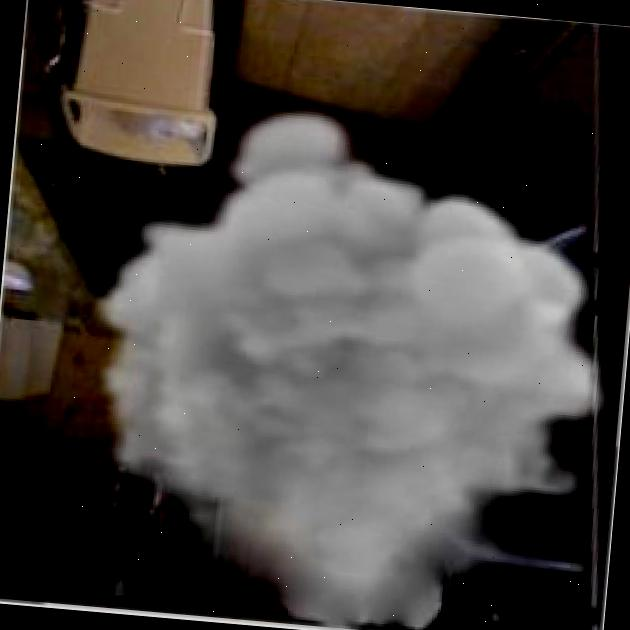smoke: (67, 86, 630, 630)
